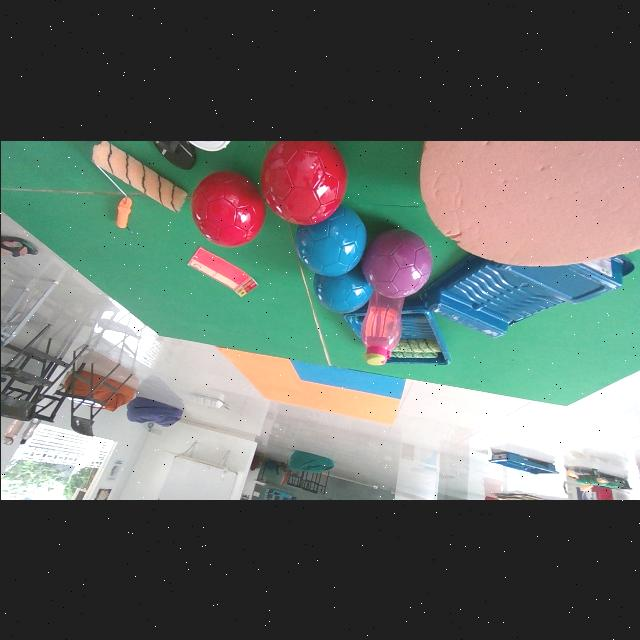B: (294, 206, 366, 276), (312, 267, 371, 313)
P: (361, 229, 431, 298)
R: (261, 141, 347, 225), (190, 171, 265, 247)
